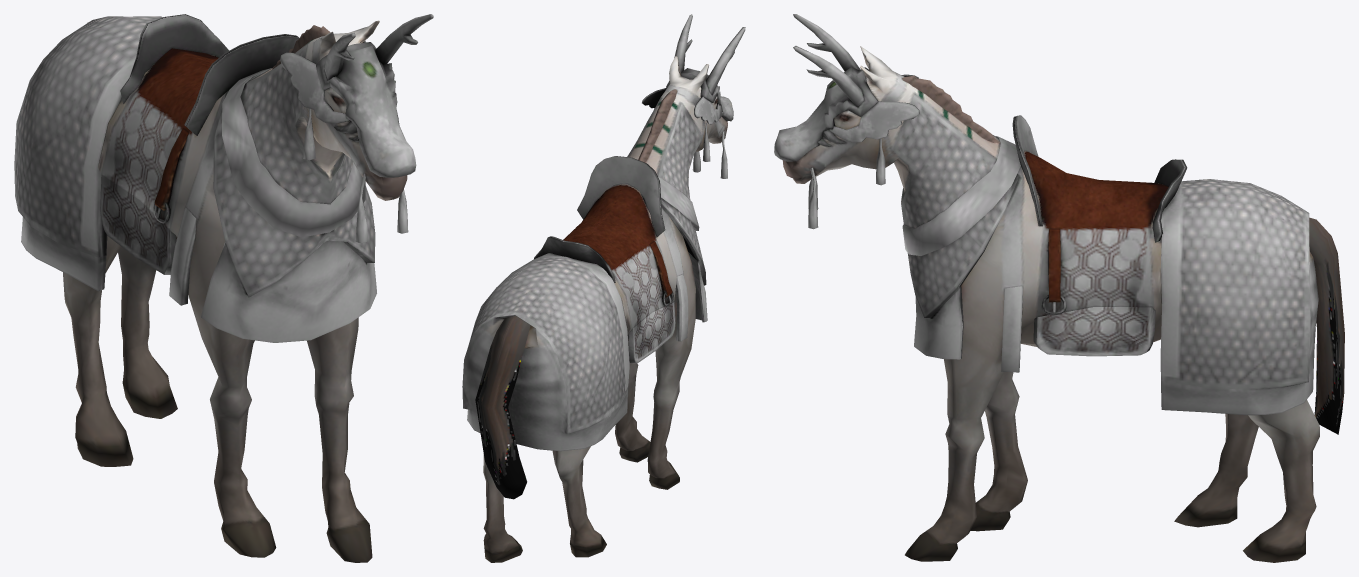
File: body-championstablesoldiers.glb
The picture shows the model from 3 angles, left to right: view 1: azimuth 30°, elevation 25°; view 2: azimuth 150°, elevation 25°; view 3: azimuth 270°, elevation 25°; orthographic projection. The views are drawn at different scales.
Size of the model in its own units: 0.9037 by 2.64 by 2.68.
Materials: 1 (1 with a texture image).
